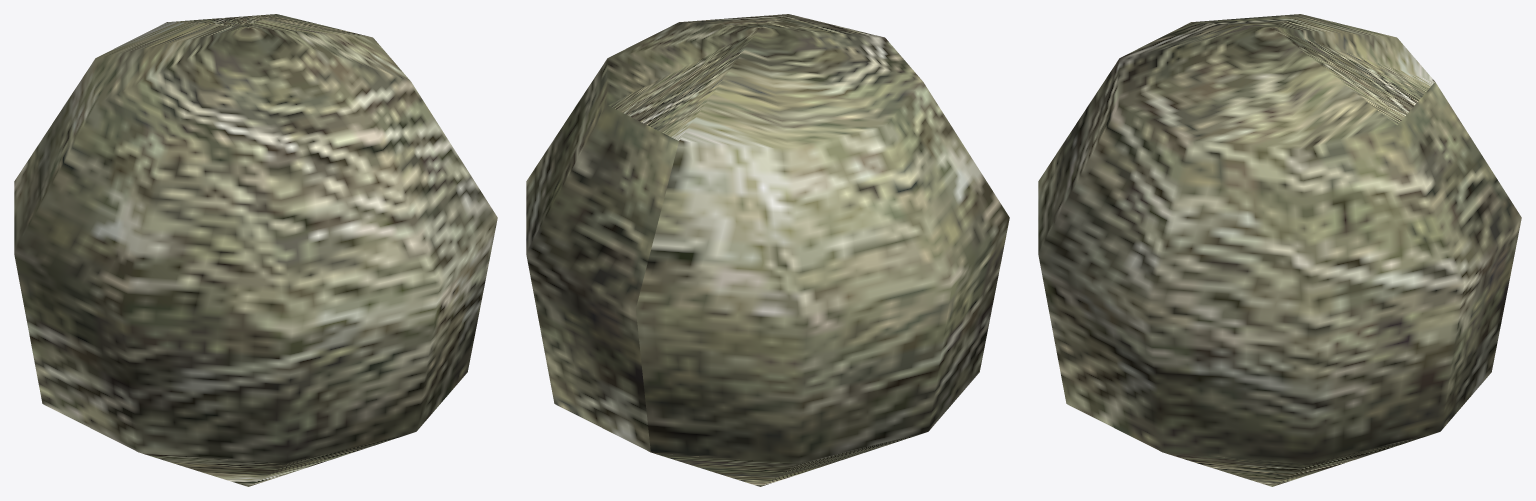
File: onager_projectile.dae
The picture shows the model from 3 angles, left to right: view 1: azimuth 30°, elevation 25°; view 2: azimuth 150°, elevation 25°; view 3: azimuth 270°, elevation 25°; orthographic projection.
Visible parts, largest first — view 1: Sphere01; view 2: Sphere01; view 3: Sphere01.
Boxes of the visible parts, x1=… form: Sphere01: x1=14, y1=14, x2=497, y2=486; Sphere01: x1=526, y1=14, x2=1009, y2=486; Sphere01: x1=1038, y1=14, x2=1521, y2=486.
Size of the model in its own units: 0.7807 by 0.7689 by 0.805.
